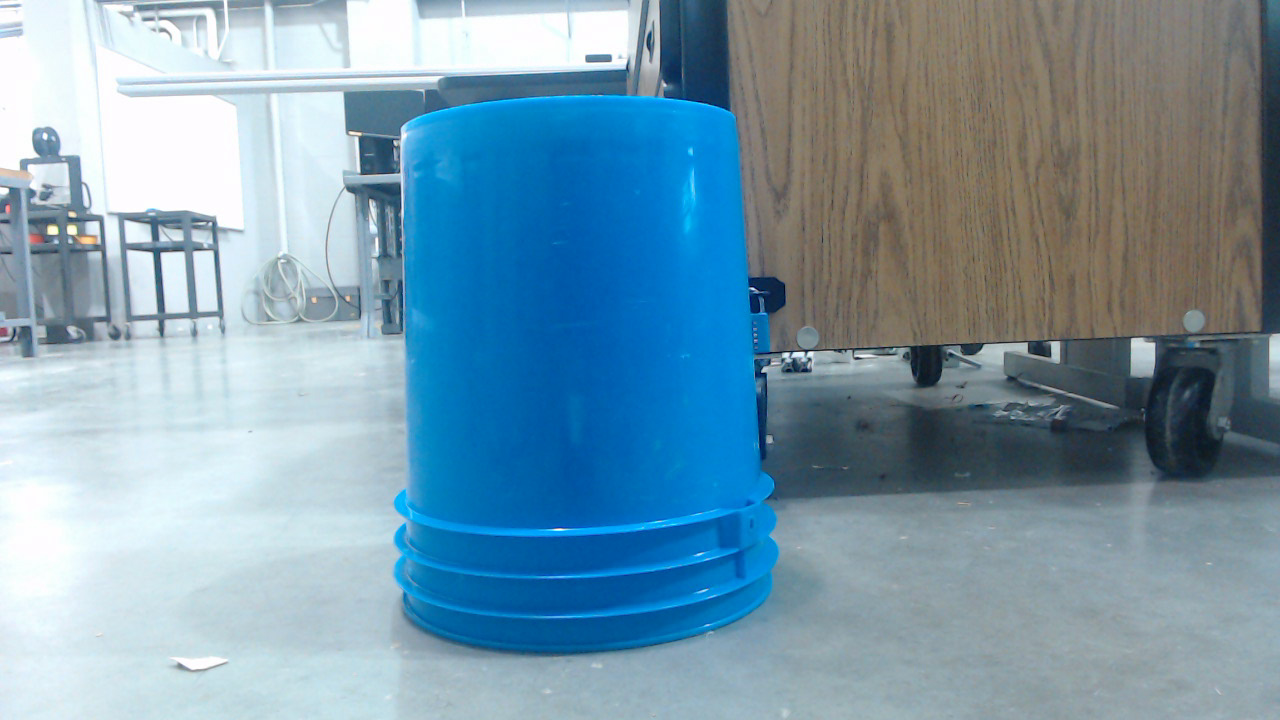blue_bucket: (394, 95, 787, 669)
